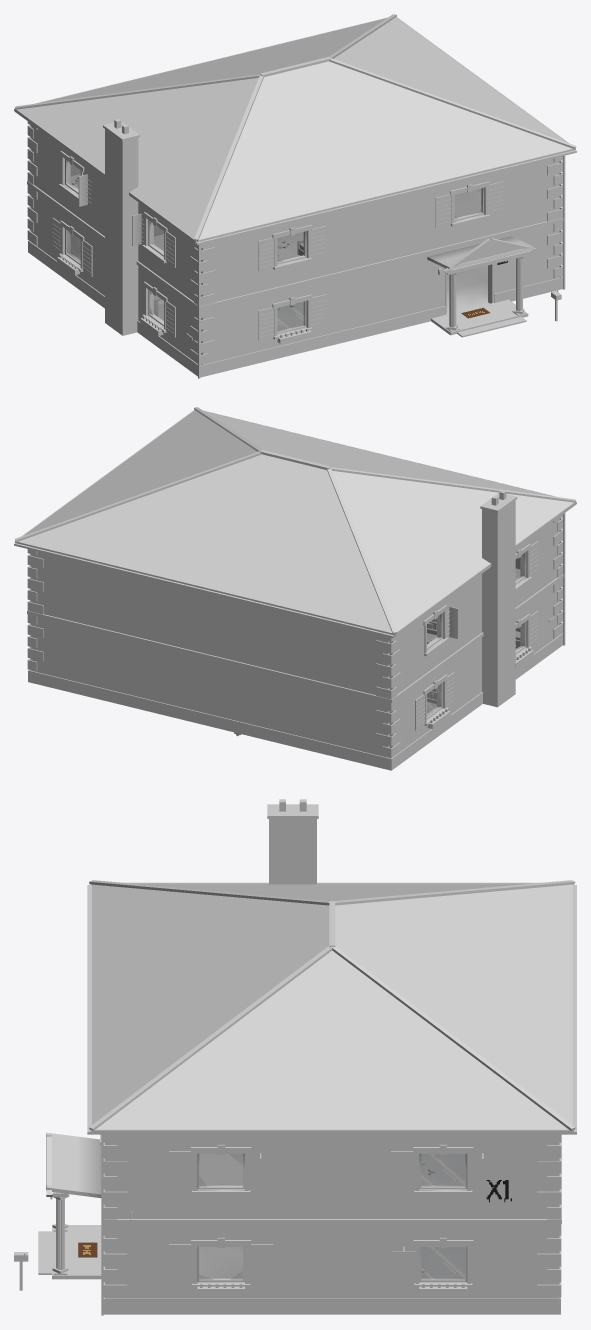
The model's file is big_house_1.glb.
The picture shows the model from 3 angles, top to bottom: view 1: azimuth 30°, elevation 25°; view 2: azimuth 150°, elevation 25°; view 3: azimuth 270°, elevation 25°; orthographic projection. The views are drawn at different scales.
Parts seen in each view (by area): view 1: big_house_1; view 2: big_house_1; view 3: big_house_1.
Boxes of the visible parts, <box> form: big_house_1: <box>14,14,576,378</box>; big_house_1: <box>14,407,576,770</box>; big_house_1: <box>14,799,576,1315</box>.
Bounding box in the file's own units: 17.51 × 9.1 × 16.47.
Materials: 4 (3 with a texture image).
